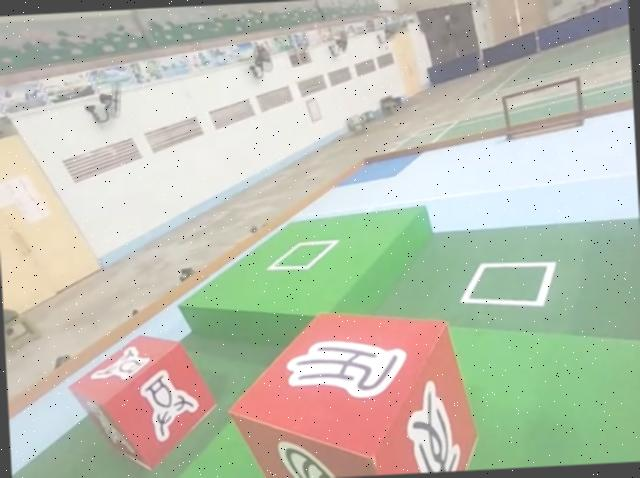R2 Fake: (224, 299, 484, 478)
R2 Real: (63, 326, 219, 478)
